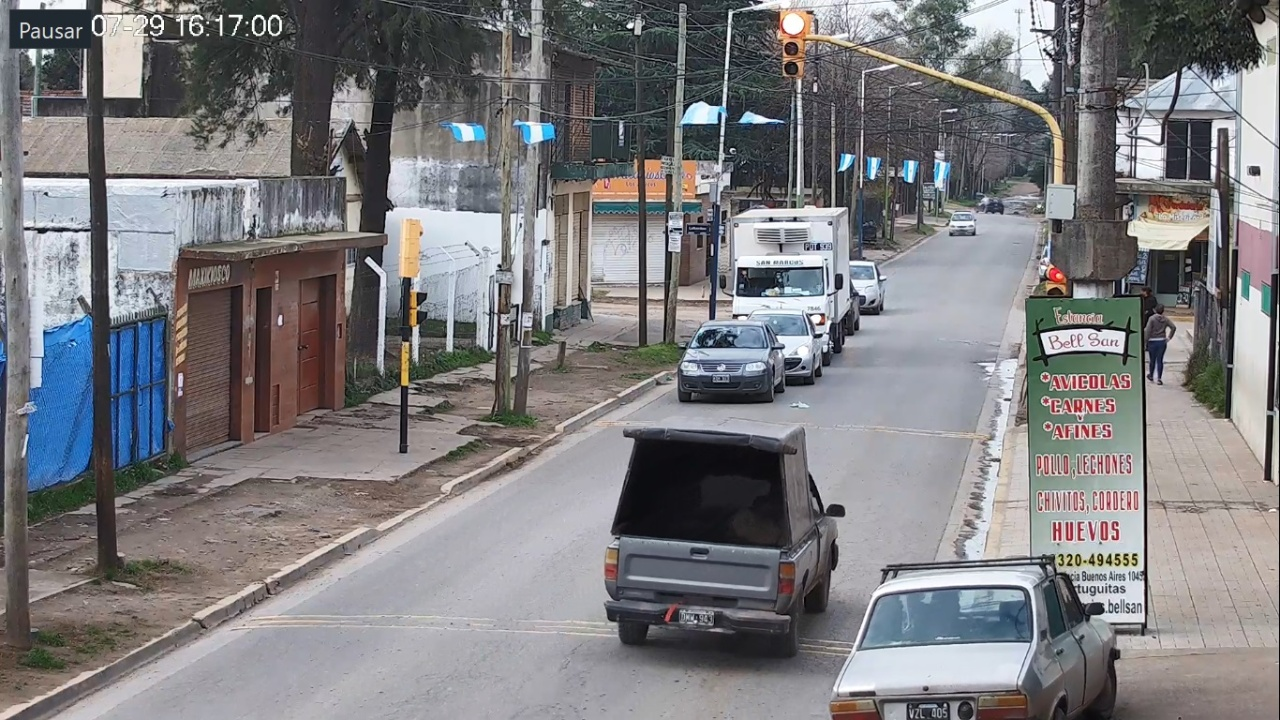car: (605, 427, 845, 655), (828, 570, 1120, 720)
front car: (677, 320, 786, 402)
traffic light: (782, 12, 806, 76)
